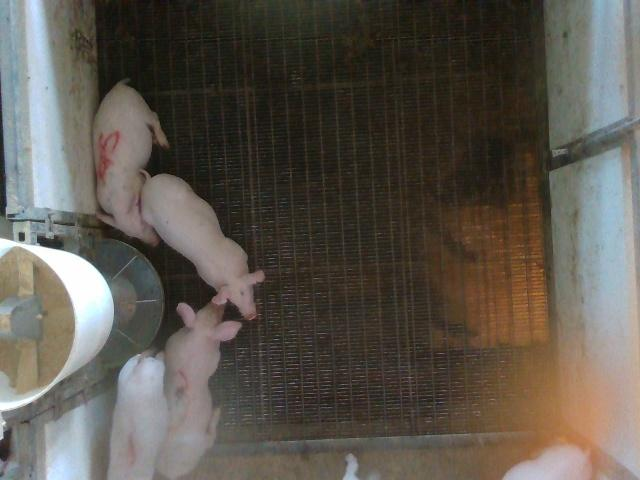pig-1: (108, 351, 169, 478)
pig-3: (156, 302, 241, 479)
pig-5: (92, 81, 168, 244)
